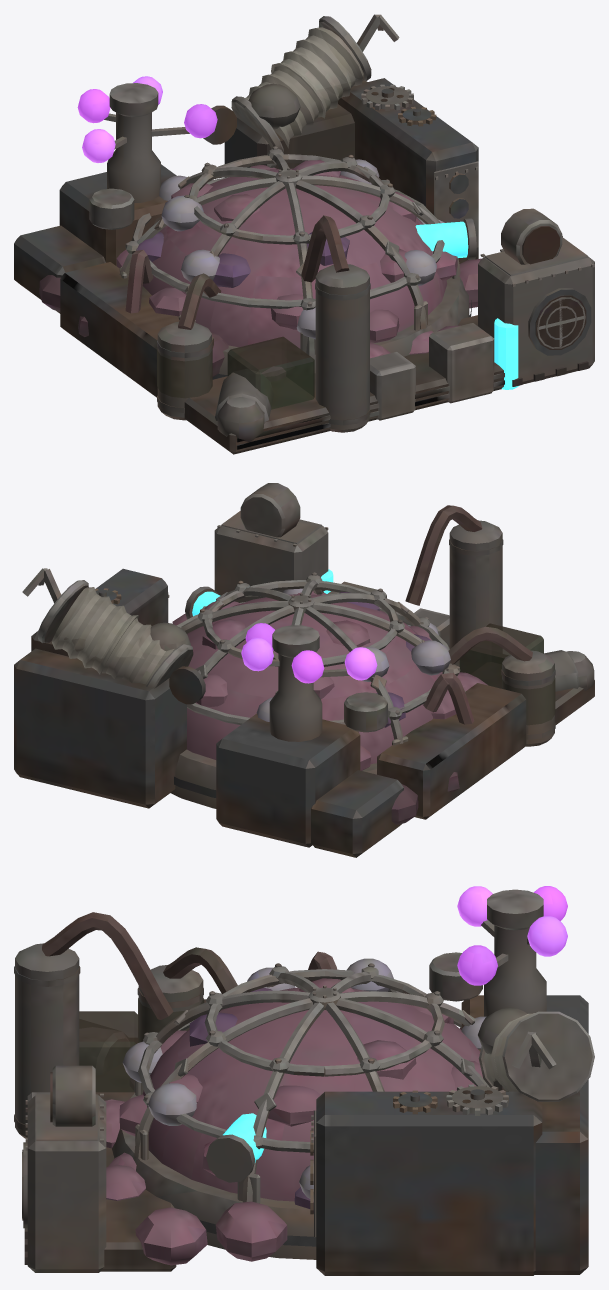
Rendered from biolab.glb.
3 views of the same model, one above another, from view 1: azimuth 30°, elevation 25°; view 2: azimuth 150°, elevation 25°; view 3: azimuth 270°, elevation 25° (orthographic). The views are drawn at different scales.
Parts seen in each view (by area): view 1: body, anim_bellows_biolab, anim_glow_biolab, anim_vial_biolab_fe, anim_vial_biolab_fw, anim_vial_biolab_bw; view 2: body, anim_bellows_biolab, anim_glow_biolab, anim_vial_biolab_fw, anim_vial_biolab_be, anim_vial_biolab_bw; view 3: body, anim_bellows_biolab, anim_glow_biolab, anim_vial_biolab_fe, anim_vial_biolab_be, anim_vial_biolab_fw, anim_vial_biolab_bw.
Boxes of the visible parts, bbox=[...] form: body: bbox=[14, 63, 594, 454]; anim_bellows_biolab: bbox=[271, 14, 399, 118]; anim_glow_biolab: bbox=[159, 159, 444, 339]; anim_vial_biolab_fe: bbox=[151, 104, 217, 138]; anim_vial_biolab_fw: bbox=[82, 129, 126, 162]; anim_vial_biolab_bw: bbox=[77, 89, 115, 123]; body: bbox=[14, 483, 594, 857]; anim_bellows_biolab: bbox=[22, 568, 138, 674]; anim_glow_biolab: bbox=[256, 588, 450, 721]; anim_vial_biolab_fw: bbox=[320, 647, 377, 680]; anim_vial_biolab_be: bbox=[241, 638, 279, 671]; anim_vial_biolab_bw: bbox=[291, 650, 324, 683]; body: bbox=[14, 889, 588, 1275]; anim_bellows_biolab: bbox=[491, 1011, 594, 1101]; anim_glow_biolab: bbox=[122, 958, 486, 1199]; anim_vial_biolab_fe: bbox=[457, 945, 508, 985]; anim_vial_biolab_be: bbox=[527, 916, 567, 956]; anim_vial_biolab_fw: bbox=[457, 886, 494, 936]; anim_vial_biolab_bw: bbox=[534, 886, 567, 921].
Bounding box in the file's own units: 4.97 × 2.44 × 5.4.
Materials: 6 (6 with a texture image).
